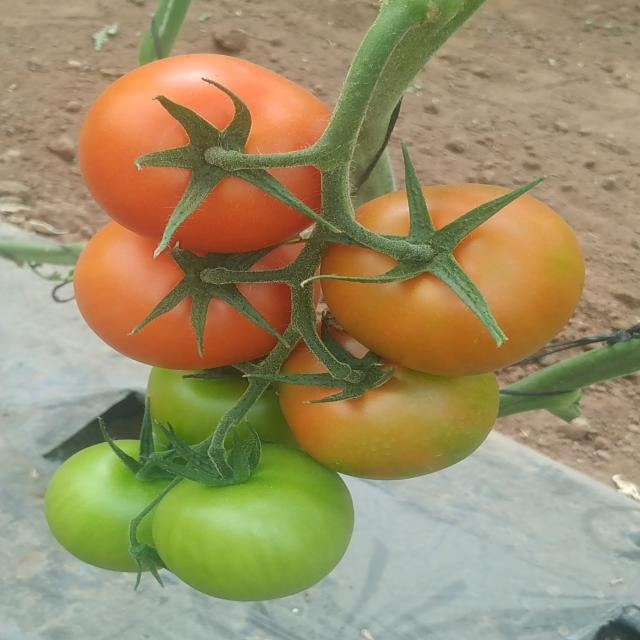Ripe Tomato: (73, 47, 324, 260), (327, 184, 583, 368), (58, 266, 292, 369)
Unripe Tomato: (169, 442, 354, 602), (278, 358, 500, 476), (39, 434, 166, 580), (137, 370, 280, 445)
